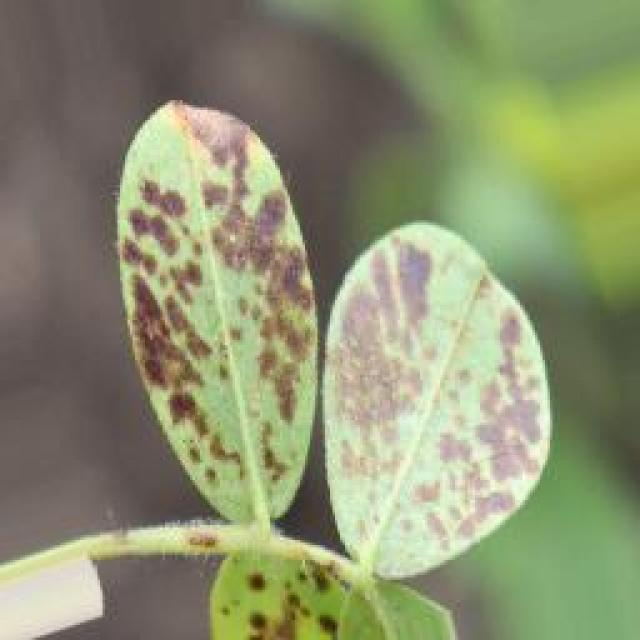Whitefly: (84, 70, 566, 636)
